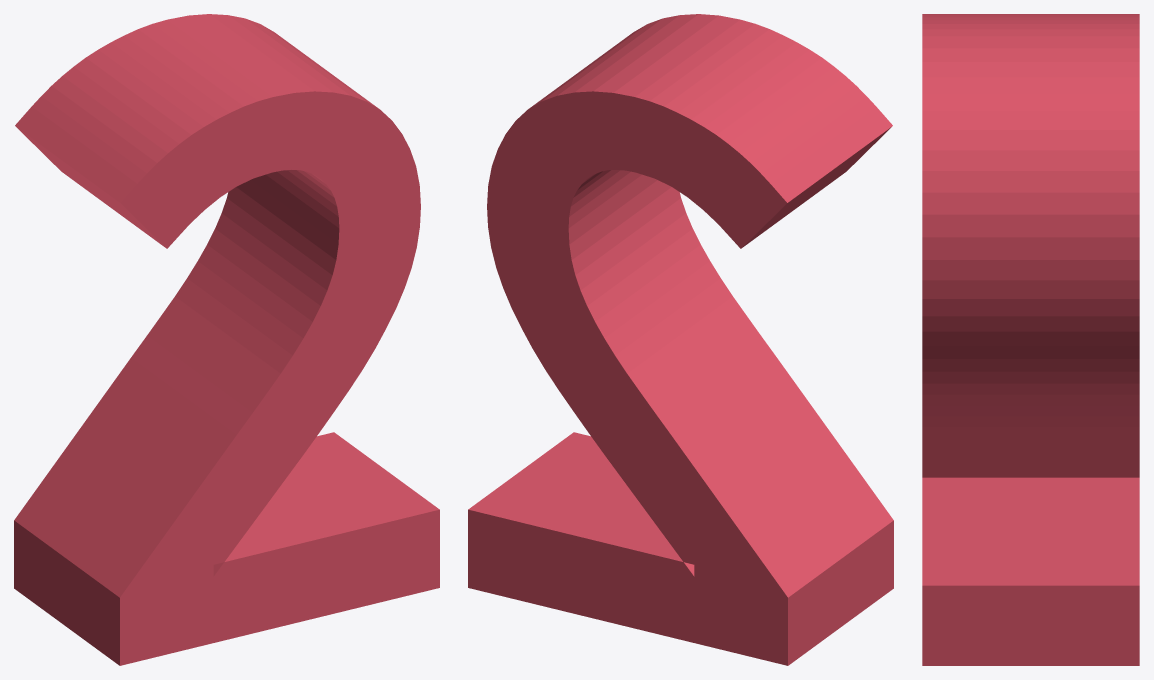
Rendered from Two.fbx.
3 renders of one model, left to right at view 1: azimuth 30°, elevation 25°; view 2: azimuth 150°, elevation 25°; view 3: azimuth 270°, elevation 25°, orthographic. The views are drawn at different scales.
Visible parts, largest first — view 1: tinker3:group_0_15277357; view 2: tinker3:group_0_15277357; view 3: tinker3:group_0_15277357.
Boxes of the visible parts, <box> form: tinker3:group_0_15277357: <box>14,14,439,665</box>; tinker3:group_0_15277357: <box>468,14,893,665</box>; tinker3:group_0_15277357: <box>922,14,1139,665</box>.
Bounding box in the file's own units: 13.21 × 20.97 × 7.56.
